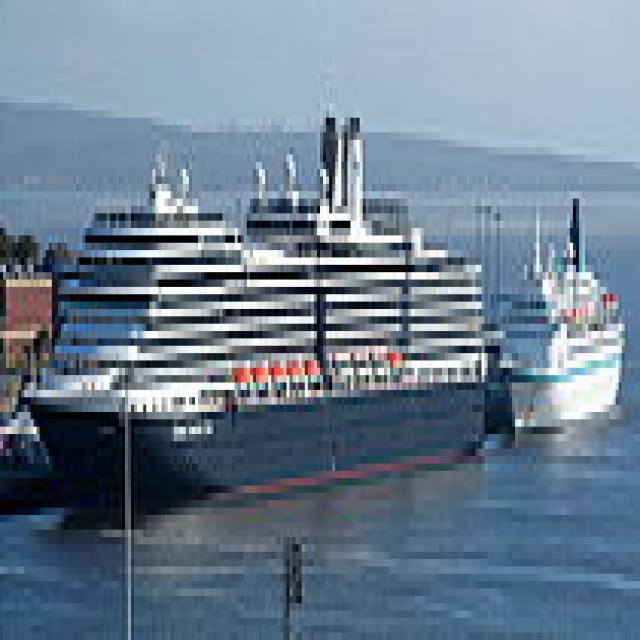Ship: (20, 97, 501, 517), (495, 185, 638, 472)
